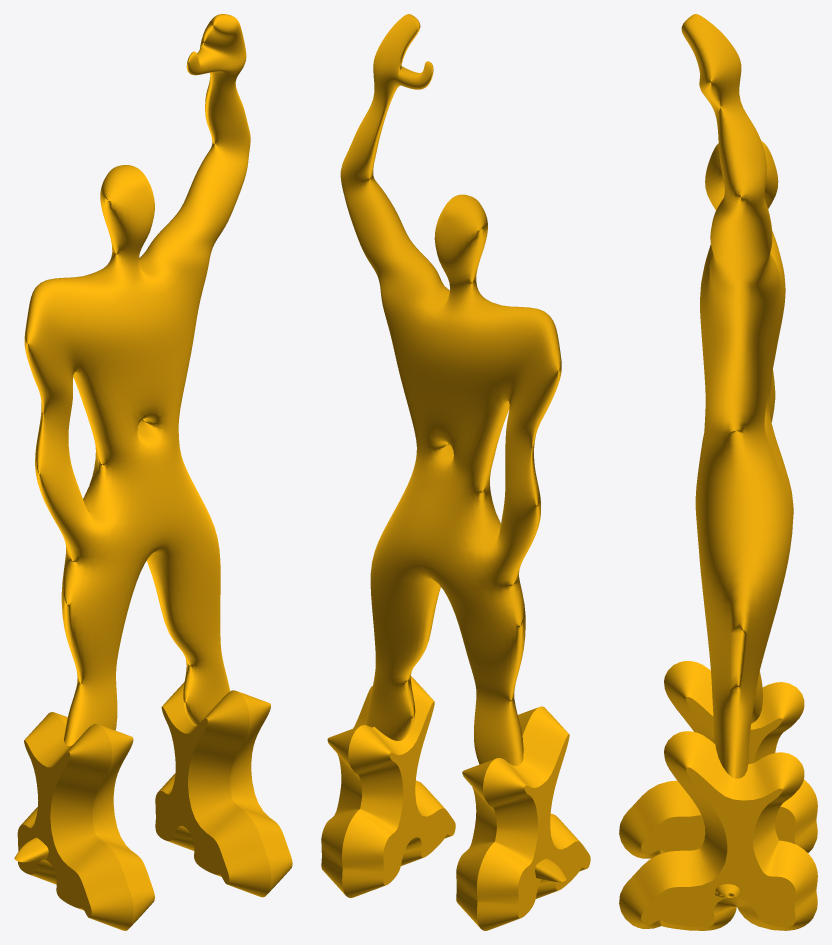
File: Roller Skater_02.fbx
3 renders of one model, left to right at view 1: azimuth 30°, elevation 25°; view 2: azimuth 150°, elevation 25°; view 3: azimuth 270°, elevation 25°, orthographic. The views are drawn at different scales.
Parts seen in each view (by area): view 1: Layer 03; view 2: Layer 03; view 3: Layer 03.
Part boxes in pixels (x1,y1,x2,y2): Layer 03: [14, 14, 292, 930]; Layer 03: [321, 14, 590, 930]; Layer 03: [619, 14, 817, 930].
Bounding box in the file's own units: 22.4 × 15.95 × 80.52.
